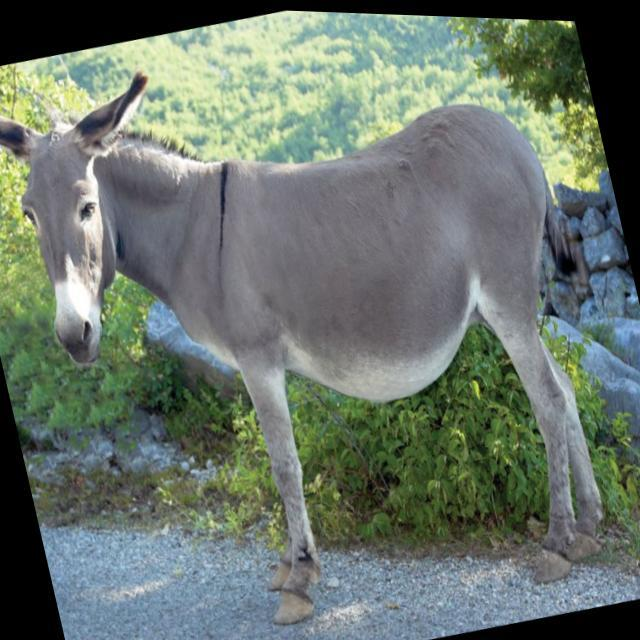Donkey: (0, 0, 635, 640), (0, 45, 209, 393)
